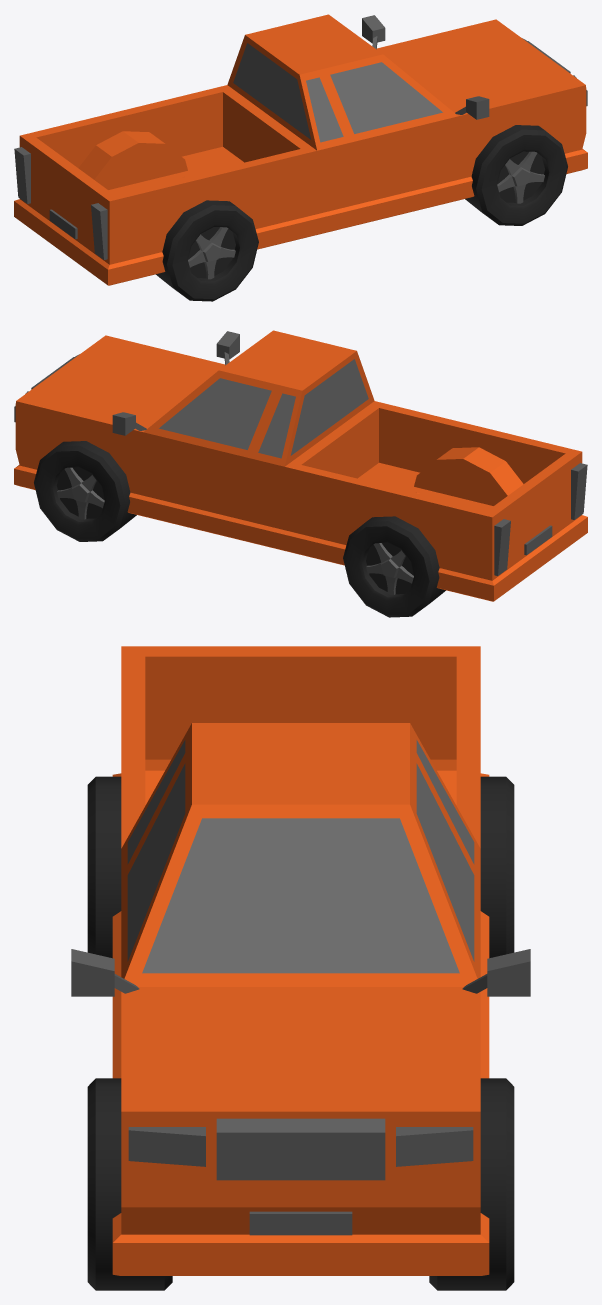
File: Car05.fbx
The picture shows the model from 3 angles, top to bottom: view 1: azimuth 30°, elevation 25°; view 2: azimuth 150°, elevation 25°; view 3: azimuth 270°, elevation 25°; orthographic projection. The views are drawn at different scales.
Visible parts, largest first — view 1: polySurface402, polySurface400, polySurface398, polySurface415, polySurface399, polySurface401, polySurface408, polySurface409, polySurface410, polySurface412, polySurface407; view 2: polySurface402, polySurface396, polySurface394, polySurface414, polySurface395, polySurface397, polySurface409, polySurface408, polySurface412, polySurface410, polySurface407; view 3: polySurface402, polySurface403, polySurface396, polySurface400, polySurface394, polySurface398, polySurface405, polySurface404, polySurface406, polySurface410, polySurface412.
Part boxes in pixels (bbox=[...]): polySurface402: bbox=[14, 14, 587, 285]; polySurface400: bbox=[465, 125, 567, 225]; polySurface398: bbox=[156, 200, 258, 301]; polySurface415: bbox=[78, 131, 187, 189]; polySurface399: bbox=[188, 227, 235, 279]; polySurface401: bbox=[497, 151, 544, 203]; polySurface408: bbox=[91, 203, 107, 259]; polySurface409: bbox=[14, 147, 30, 203]; polySurface410: bbox=[362, 15, 385, 43]; polySurface412: bbox=[466, 96, 489, 119]; polySurface407: bbox=[49, 209, 77, 239]; polySurface402: bbox=[14, 330, 587, 601]; polySurface396: bbox=[34, 441, 136, 541]; polySurface394: bbox=[343, 516, 445, 617]; polySurface414: bbox=[414, 447, 523, 505]; polySurface395: bbox=[366, 543, 413, 595]; polySurface397: bbox=[57, 467, 104, 519]; polySurface409: bbox=[494, 519, 510, 575]; polySurface408: bbox=[571, 463, 587, 519]; polySurface412: bbox=[216, 331, 239, 359]; polySurface410: bbox=[112, 412, 135, 435]; polySurface407: bbox=[524, 525, 552, 555]; polySurface402: bbox=[112, 646, 489, 1275]; polySurface403: bbox=[216, 1118, 385, 1180]; polySurface396: bbox=[429, 1078, 514, 1290]; polySurface400: bbox=[87, 1078, 172, 1290]; polySurface394: bbox=[480, 776, 514, 958]; polySurface398: bbox=[87, 776, 121, 958]; polySurface405: bbox=[396, 1127, 473, 1166]; polySurface404: bbox=[128, 1127, 205, 1166]; polySurface406: bbox=[249, 1211, 352, 1235]; polySurface410: bbox=[487, 949, 530, 996]; polySurface412: bbox=[71, 949, 114, 996].
Size of the model in its own units: 21.1 by 7.45 by 8.51.
